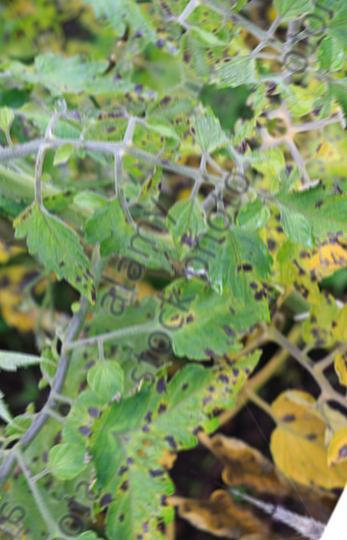Tomato Early blight leaf: (131, 313, 266, 477), (0, 189, 129, 305), (179, 206, 300, 324), (266, 161, 347, 277)
